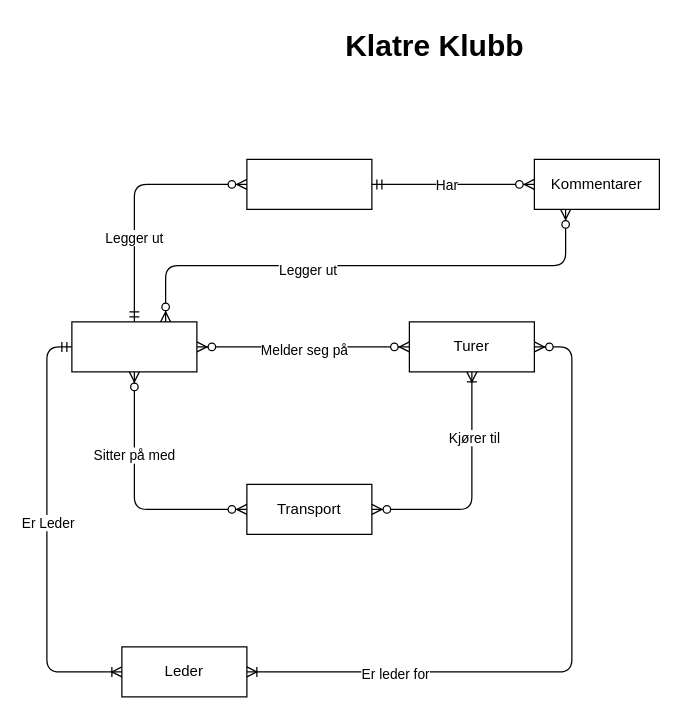
Image size: 681x719. Some labels were removed from this diagram. Here are the shapes that lost their labels. From the top down, the box of each, then its label:
(246, 158, 372, 209): Bilder
(71, 321, 197, 372): Medlemmer
